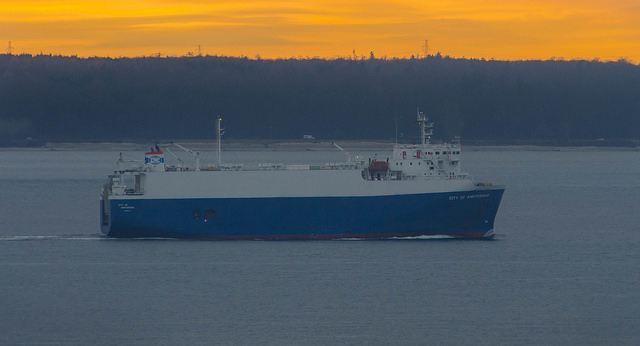PCC: (96, 124, 504, 247)
